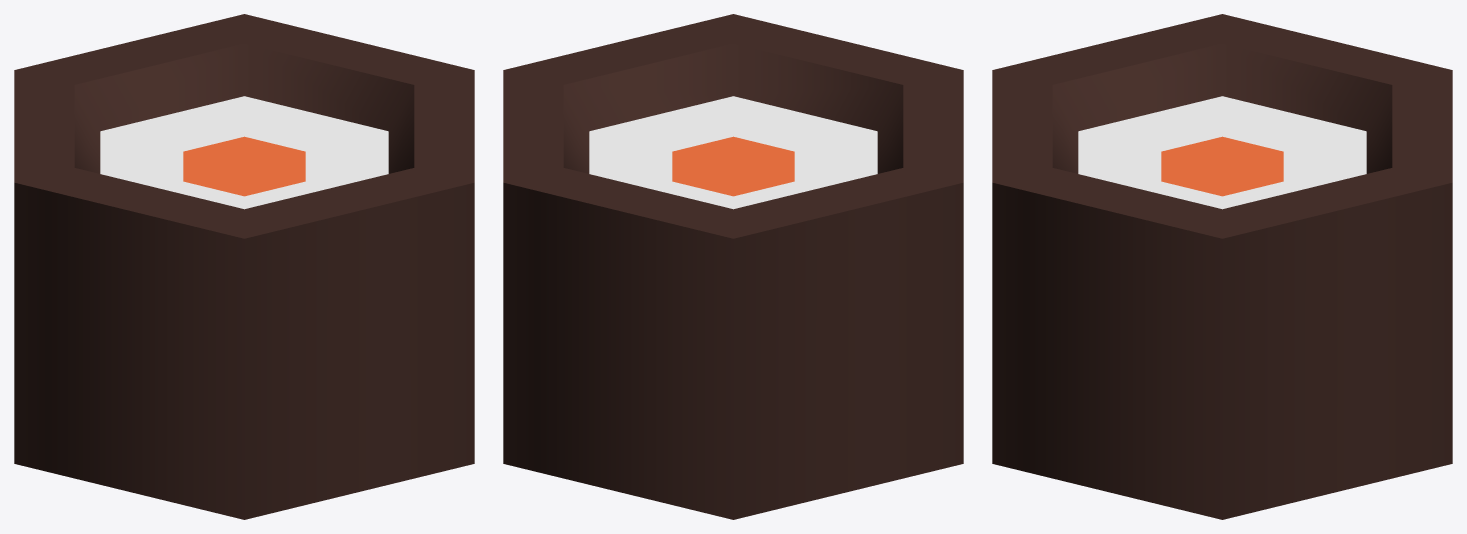
Rendered from makiSalmon.GLB.
3 renders of one model, left to right at view 1: azimuth 30°, elevation 25°; view 2: azimuth 150°, elevation 25°; view 3: azimuth 270°, elevation 25°, orthographic.
Parts seen in each view (by area): view 1: makiSalmon; view 2: makiSalmon; view 3: makiSalmon.
Boxes of the visible parts, x1,y1,x2,y2 form: makiSalmon: (14,14,474,519); makiSalmon: (503,14,963,519); makiSalmon: (992,14,1452,519).
Size of the model in its own units: 0.12 by 0.07 by 0.1039.
